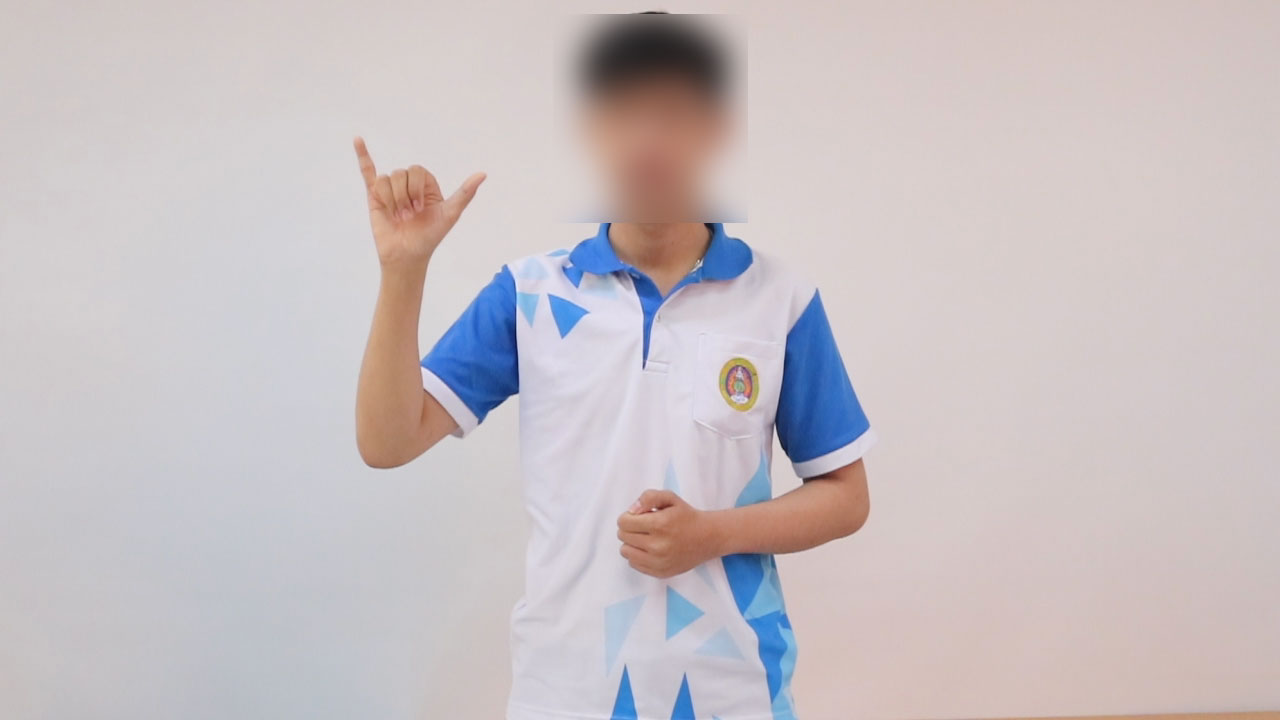yor: (345, 129, 489, 272)
